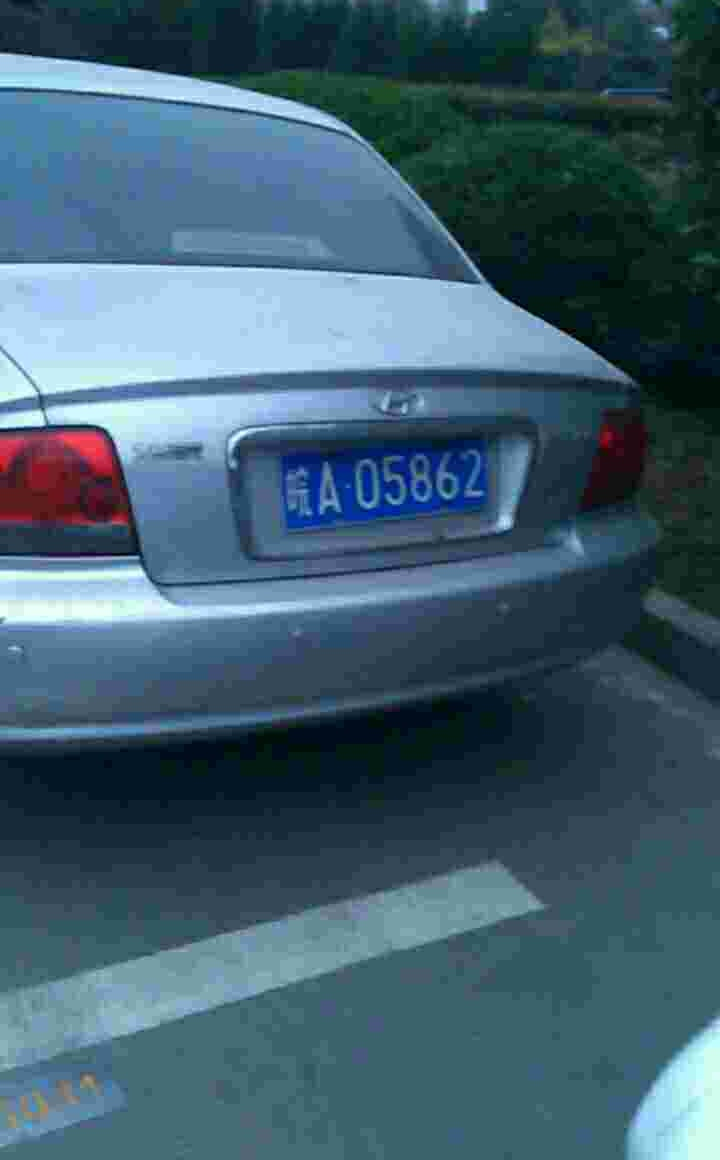plate: (284, 429, 498, 533)
